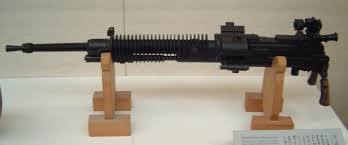gun: (3, 16, 334, 105)
